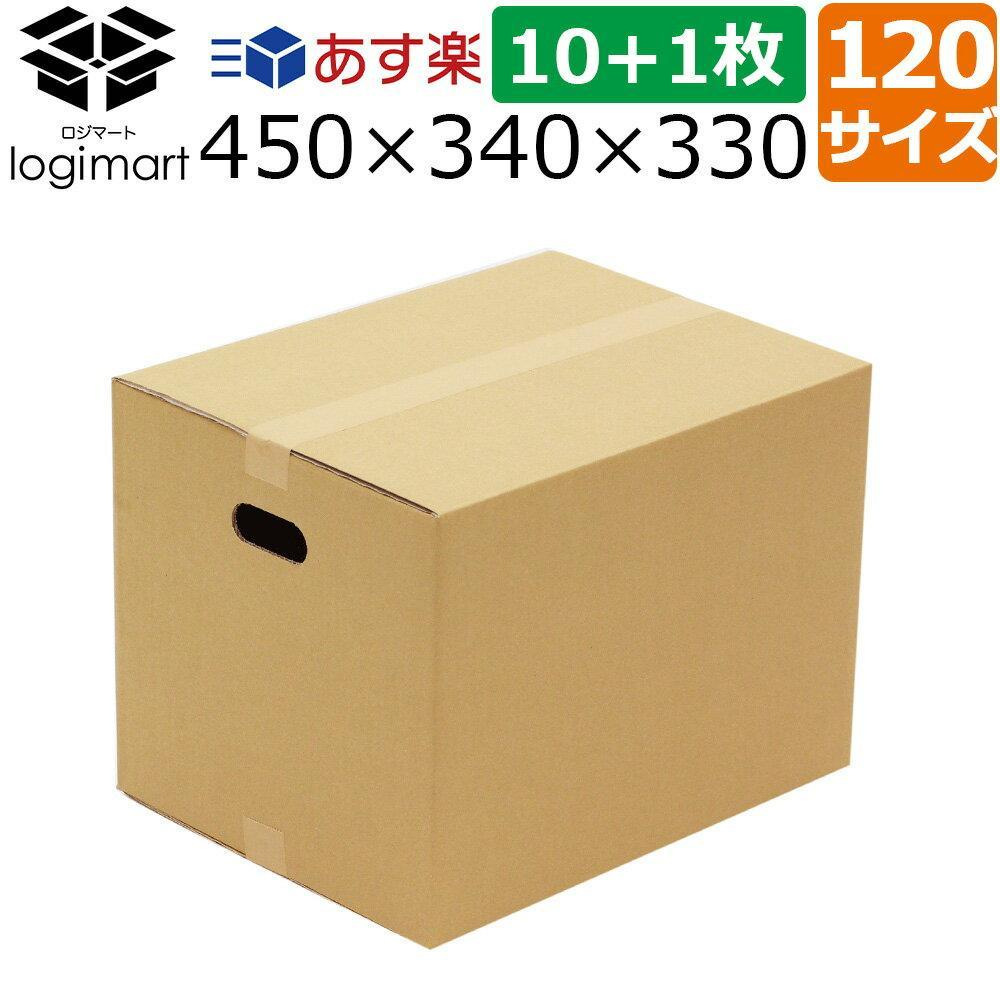box: (77, 241, 865, 948)
